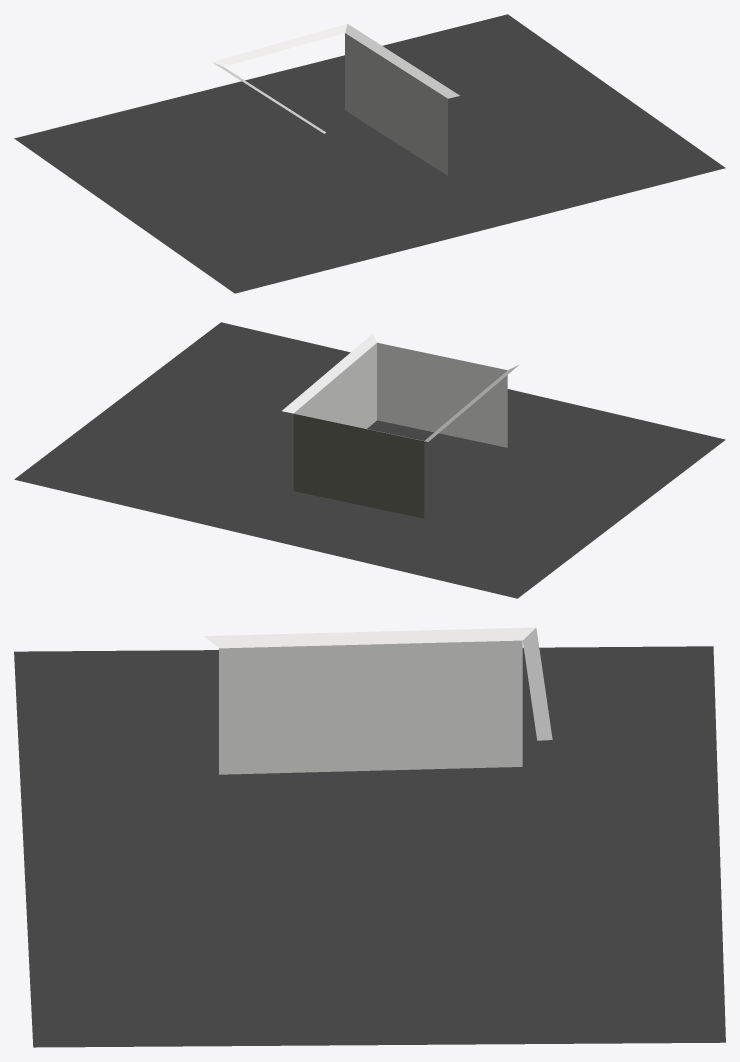
Rendered from 820-broad-st.glb.
The picture shows the model from 3 angles, top to bottom: view 1: azimuth 30°, elevation 25°; view 2: azimuth 150°, elevation 25°; view 3: azimuth 270°, elevation 25°; orthographic projection. The views are drawn at different scales.
Visible parts, largest first — view 1: LOD0; view 2: LOD0; view 3: LOD0.
Part boxes in pixels (x1=…): LOD0: x1=14, y1=14, x2=725, y2=293; LOD0: x1=14, y1=322, x2=725, y2=598; LOD0: x1=14, y1=627, x2=725, y2=1047.
Size of what is drawn, in the model's own units: 111 by 17.17 by 82.88.
2 materials, 2 textured.
